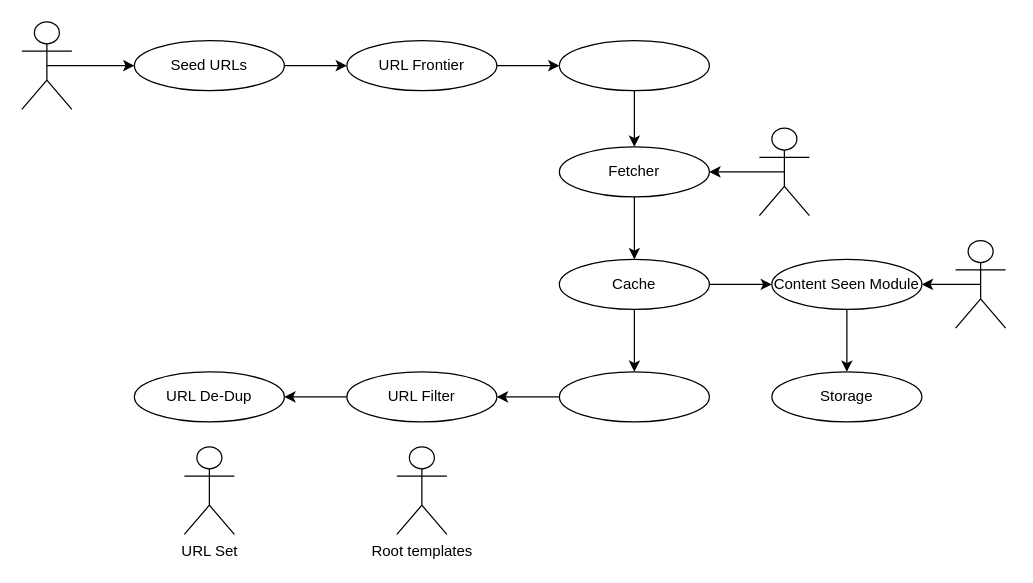
Some shapes in this 1033 by 583 pixel diagram are drawn without their labels. The centre of each missing label's shape, as x and y in pixels:
"DNS Resolver" goes at point 633,65.
"Doc FPS" goes at point 980,283.
"Internet" goes at point 783,171.
"Link Extractor" goes at point 633,396.
"Usuário" goes at point 46,65.
